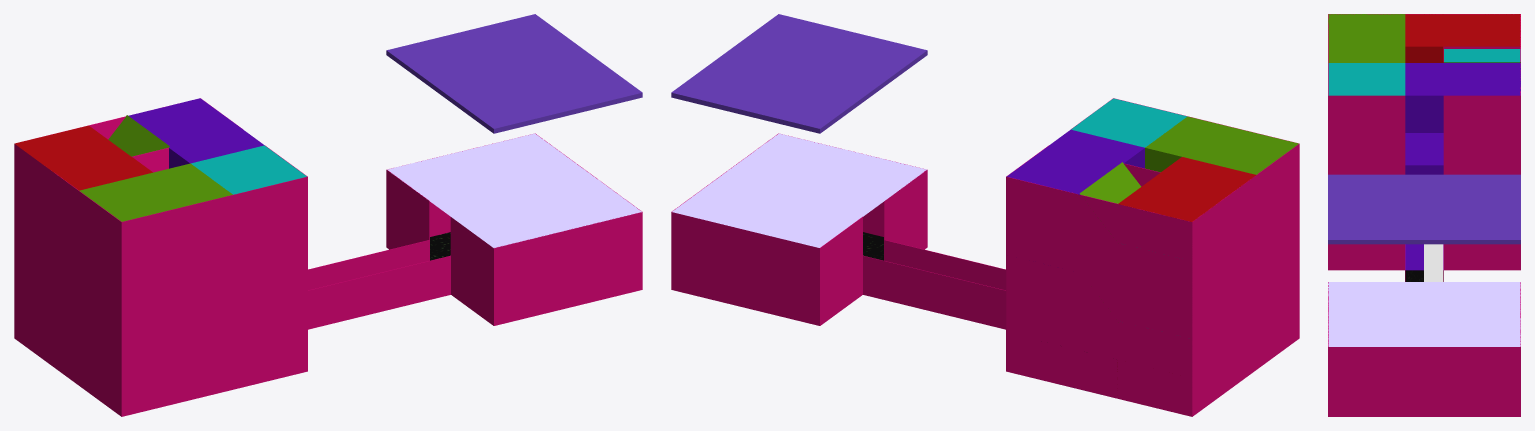
Rendered from walls7.glb.
3 renders of one model, left to right at view 1: azimuth 30°, elevation 25°; view 2: azimuth 150°, elevation 25°; view 3: azimuth 270°, elevation 25°, orthographic. The views are drawn at different scales.
Visible parts, largest first — view 1: Cube.018, Cube.015, Cube.006, Plane.001, Cube.005, Cube.008, roof3_col001, roof2_col002, roof1_col, Cube.009, roof4_col001, Cube.007 (+4 smaller); view 2: Cube.014, Cube.015, Cube.006, Plane.001, Cube.003, Cube.010, roof3_col001, roof2_col002, roof1_col, Cube.007, roof4_col001, Cube.009 (+4 smaller); view 3: Cube.006, Cube.004, Plane.001, Cube.012, Cube.016, roof1_col, roof3_col001, roof2_col002, roof4_col001, Cube.017, roof1_col002, roof4_coll002 (+5 smaller).
Part boxes in pixels (x1,y1,x2,y2): Cube.018: [121, 176, 307, 416]; Cube.015: [14, 144, 121, 416]; Cube.006: [386, 14, 642, 133]; Plane.001: [387, 133, 641, 247]; Cube.005: [493, 212, 642, 325]; Cube.008: [308, 255, 450, 329]; roof3_col001: [14, 125, 152, 190]; roof2_col002: [79, 163, 232, 221]; roof1_col: [128, 98, 264, 163]; Cube.009: [450, 217, 493, 325]; roof4_col001: [191, 145, 306, 194]; Cube.007: [386, 169, 429, 260]; Cube.014: [1006, 177, 1192, 416]; Cube.015: [1192, 143, 1299, 416]; Cube.006: [671, 14, 927, 133]; Plane.001: [672, 133, 926, 247]; Cube.003: [671, 212, 819, 325]; Cube.010: [863, 255, 1005, 329]; roof3_col001: [1118, 157, 1256, 221]; roof2_col002: [1145, 116, 1298, 174]; roof1_col: [1006, 129, 1143, 194]; Cube.007: [819, 216, 862, 325]; roof4_col001: [1071, 98, 1187, 147]; Cube.009: [884, 170, 927, 260]; Cube.006: [1328, 174, 1520, 244]; Cube.004: [1328, 347, 1520, 416]; Plane.001: [1328, 282, 1520, 346]; Cube.012: [1443, 95, 1520, 270]; Cube.016: [1328, 95, 1405, 270]; roof1_col: [1405, 63, 1520, 95]; roof3_col001: [1405, 14, 1520, 46]; roof2_col002: [1328, 14, 1405, 62]; roof4_col001: [1328, 63, 1405, 95]; Cube.017: [1405, 95, 1443, 174]; roof1_col002: [1405, 133, 1443, 165]; roof4_coll002: [1444, 49, 1520, 62].
Size of what is drawn, in the model's own units: 224 by 81.25 by 80.
Materials: 40 (2 with a texture image).
